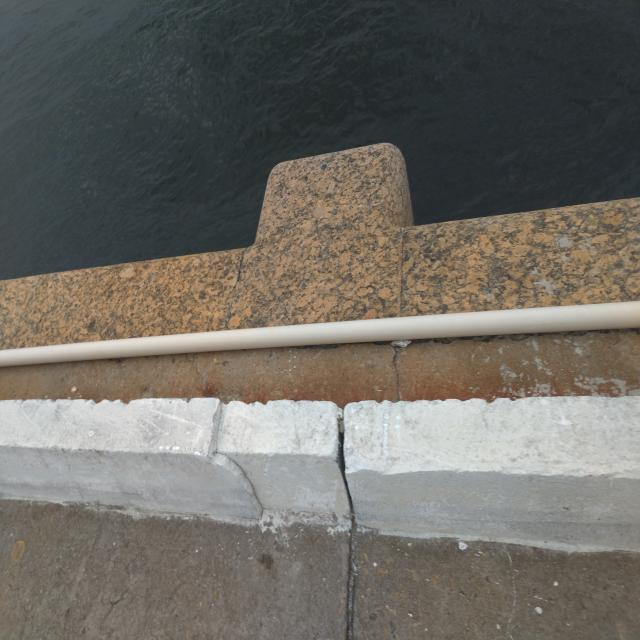gas: (0, 297, 640, 368)
